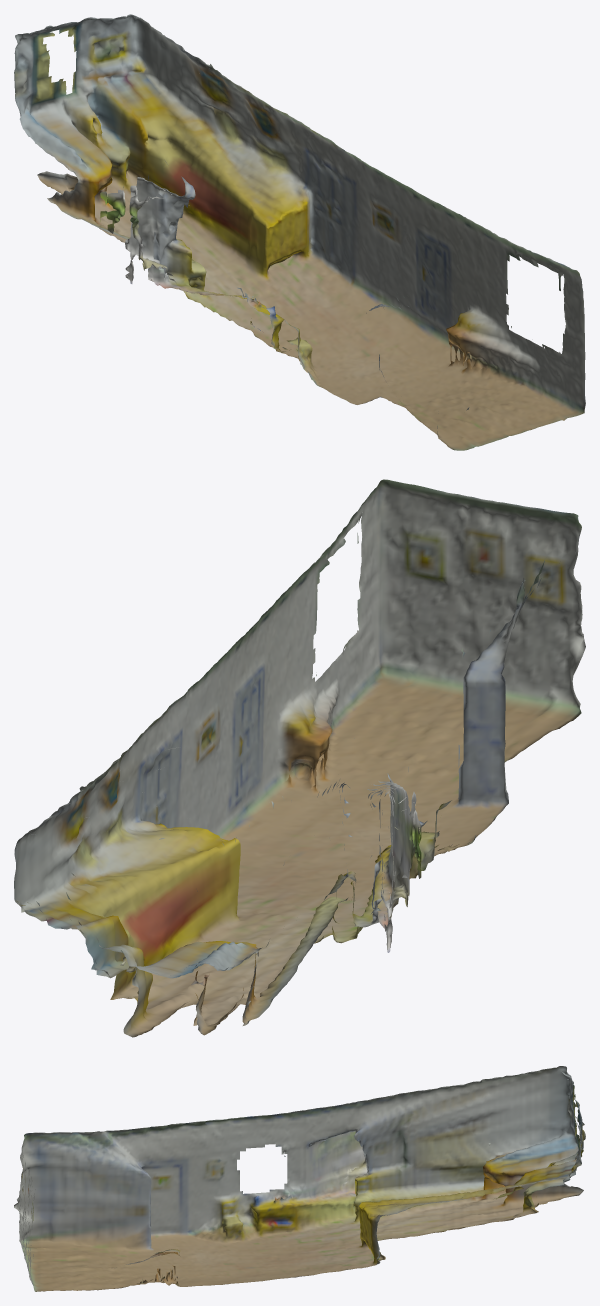
Rendered from bedroom-in-ares.glb.
3 renders of one model, top to bottom at view 1: azimuth 30°, elevation 25°; view 2: azimuth 150°, elevation 25°; view 3: azimuth 270°, elevation 25°, orthographic. The views are drawn at different scales.
Parts seen in each view (by area): view 1: world; view 2: world; view 3: world.
Part boxes in pixels (box(x1,y1,x2,y2)): world: box(14, 14, 585, 450); world: box(14, 479, 585, 1037); world: box(14, 1066, 585, 1291).
Bounding box in the file's own units: 6.52 × 4.72 × 16.27.
